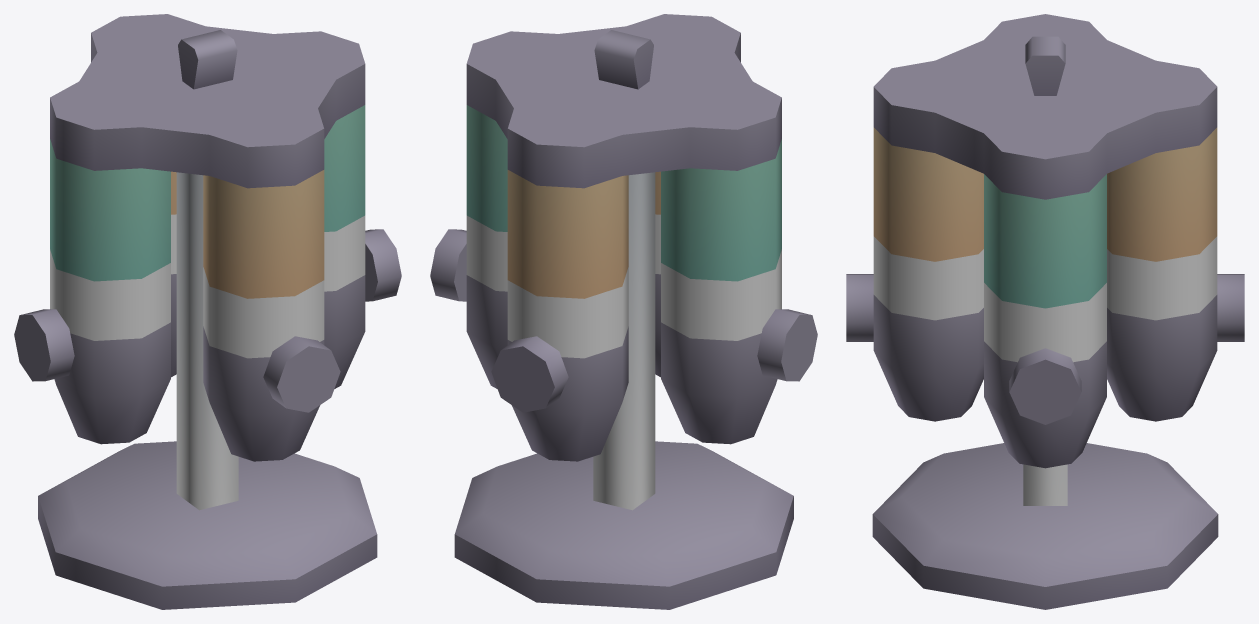
The model's file is tea-dispenser.glb.
3 views of the same model, side by side, from view 1: azimuth 30°, elevation 25°; view 2: azimuth 150°, elevation 25°; view 3: azimuth 270°, elevation 25° (orthographic).
Parts seen in each view (by area): view 1: tea-dispenser; view 2: tea-dispenser; view 3: tea-dispenser.
Boxes of the visible parts, <box> form: tea-dispenser: <box>14,14,401,609</box>; tea-dispenser: <box>430,14,817,609</box>; tea-dispenser: <box>846,14,1244,609</box>.
Bounding box in the file's own units: 0.3755 × 0.5099 × 0.3748.
